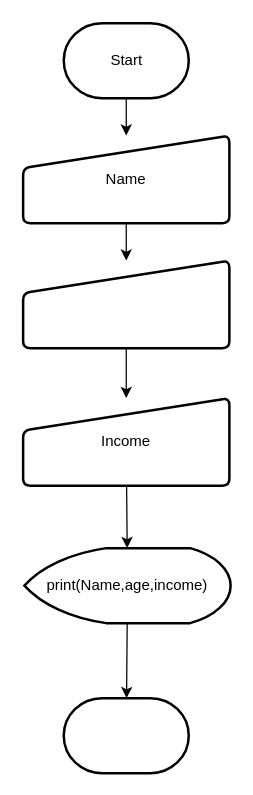
Image size: 253x795. Some labels were removed from this diagram. The shapes that lost their labels are listed below. From the top down, each one's centre as x and y in pixels, then its label:
At point 125,304: "Age".
At point 125,735: "End".
